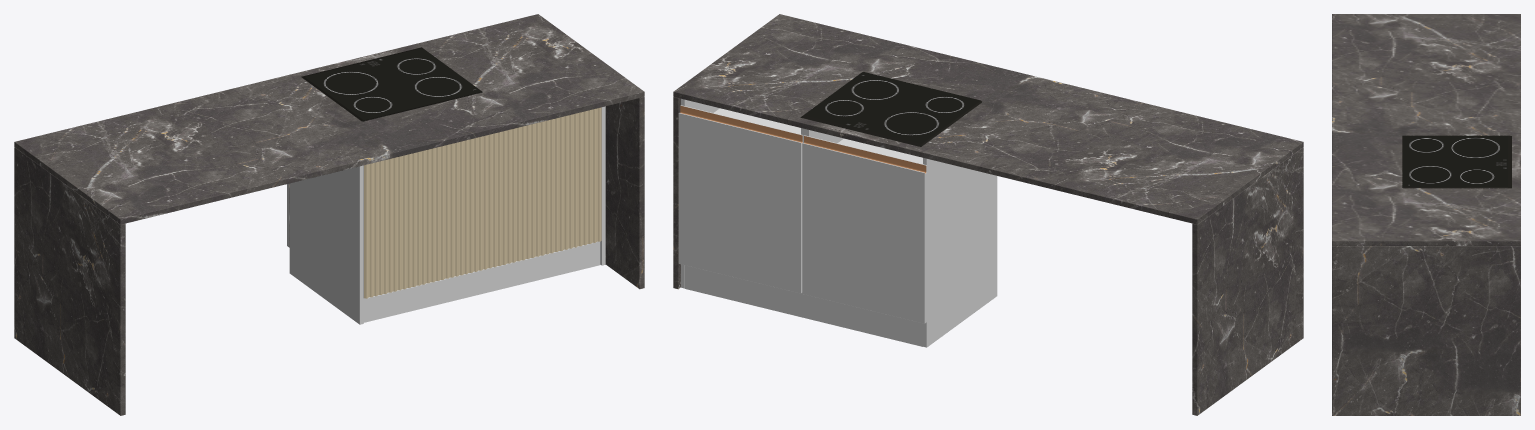
Rendered from Kitchen_table.fbx.
3 views of the same model, side by side, from view 1: azimuth 30°, elevation 25°; view 2: azimuth 150°, elevation 25°; view 3: azimuth 270°, elevation 25° (orthographic). The views are drawn at different scales.
Visible parts, largest first — view 1: Kitchen_table; view 2: Kitchen_table; view 3: Kitchen_table.
Part boxes in pixels (x1,y1,x2,y2): Kitchen_table: [14, 14, 644, 415]; Kitchen_table: [673, 14, 1303, 415]; Kitchen_table: [1332, 14, 1520, 415].
Bounding box in the file's own units: 256 × 92.5 × 90.06.
